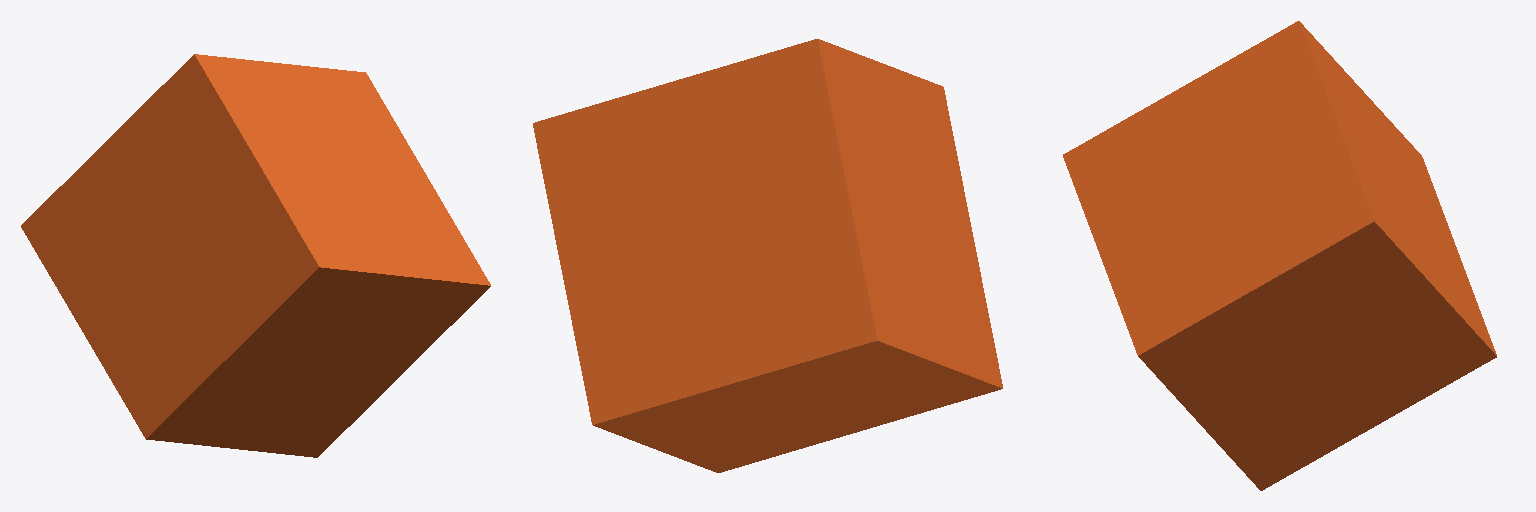
URDF robot description (fall_box_tilted):
<?xml version="1.0"?>
<!-- 회전 낙하 시험 1: 0.4 m 정육면체를 기울여(roll 0.6, pitch 0.4 rad) 1.5 m 위에서 놓는다. 모서리로 닿아 구르다 한 면에 선다.
     뷰어에서 열면 위(z=1.5 m 근처)에서 시작해 중력으로 떨어진다. 기울어진 채 닿으면 모서리로 구르다 한 면에 서서 멈춘다. 단위 m, rad. -->
<robot name="fall_box_tilted">
  <material name="body"><color rgba="0.9 0.45 0.2 1"/></material>
  <link name="fall_box_tilted_link">
    <inertial><origin xyz="0 0 1.5"/><mass value="1.0"/><inertia ixx="0.02" ixy="0" ixz="0" iyy="0.02" iyz="0" izz="0.02"/></inertial>
    <visual>
      <origin xyz="0 0 1.5" rpy="0.6 0.4 0.3"/>
      <geometry><box size="0.4 0.4 0.4"/></geometry>
      <material name="body"/>
    </visual>
  </link>
</robot>

--- Render facts (derived) ---
Views: 3 orthographic renders of the robot side by side, from view 1: azimuth 30°, elevation 25°; view 2: azimuth 150°, elevation 25°; view 3: azimuth 270°, elevation 25°.
Model fall_box_tilted with 1 links and 0 joints (none), rooted at fall_box_tilted_link, posed all joints at 0.
Visible links, largest first — view 1: fall_box_tilted_link; view 2: fall_box_tilted_link; view 3: fall_box_tilted_link.
Link boxes in pixels (x1,y1,x2,y2): fall_box_tilted_link: (21,54,490,457); fall_box_tilted_link: (533,39,1002,472); fall_box_tilted_link: (1063,21,1496,490).
Bounding box of the posed robot: 0.5551 × 0.628 × 0.6679 m (x, y, z).
Geometry: primitives only (box / cylinder / sphere), no mesh files.
